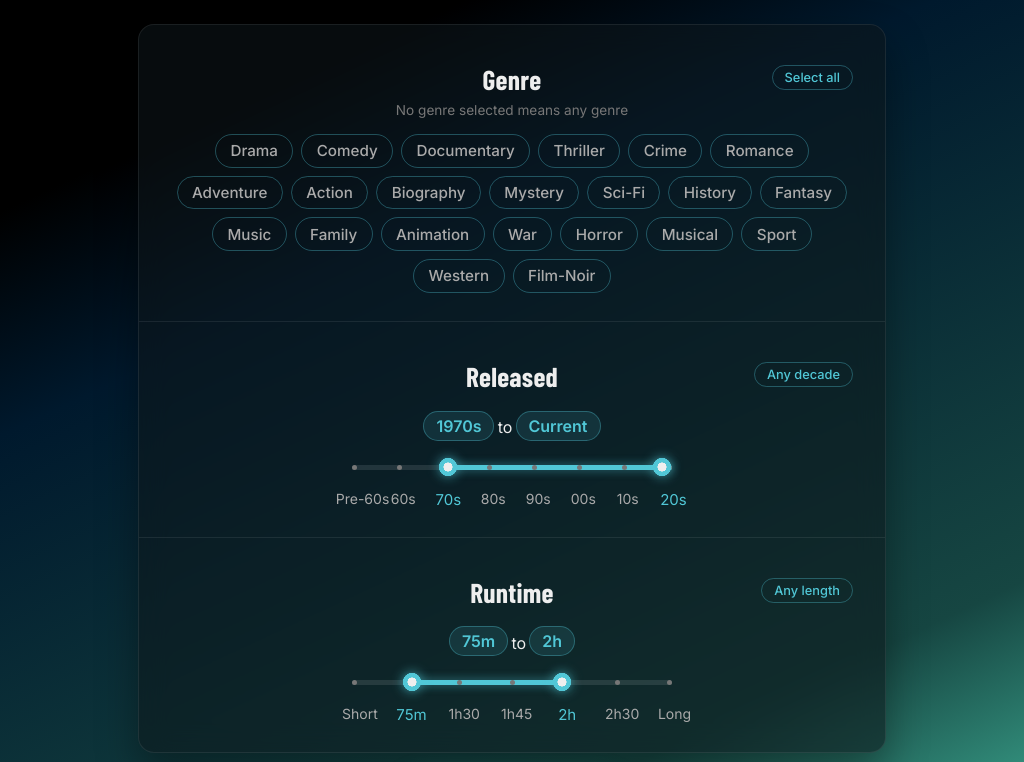
<ChoiceFormContainer/> › shows any-genre hint until a genre is chosen
Expected: the text "No genre selected means any genre" is shown, [396, 102, 628, 118]
Click the checkbox with test id "genre-checkbox" showing "Drama": (254, 151) [215, 134, 293, 168]
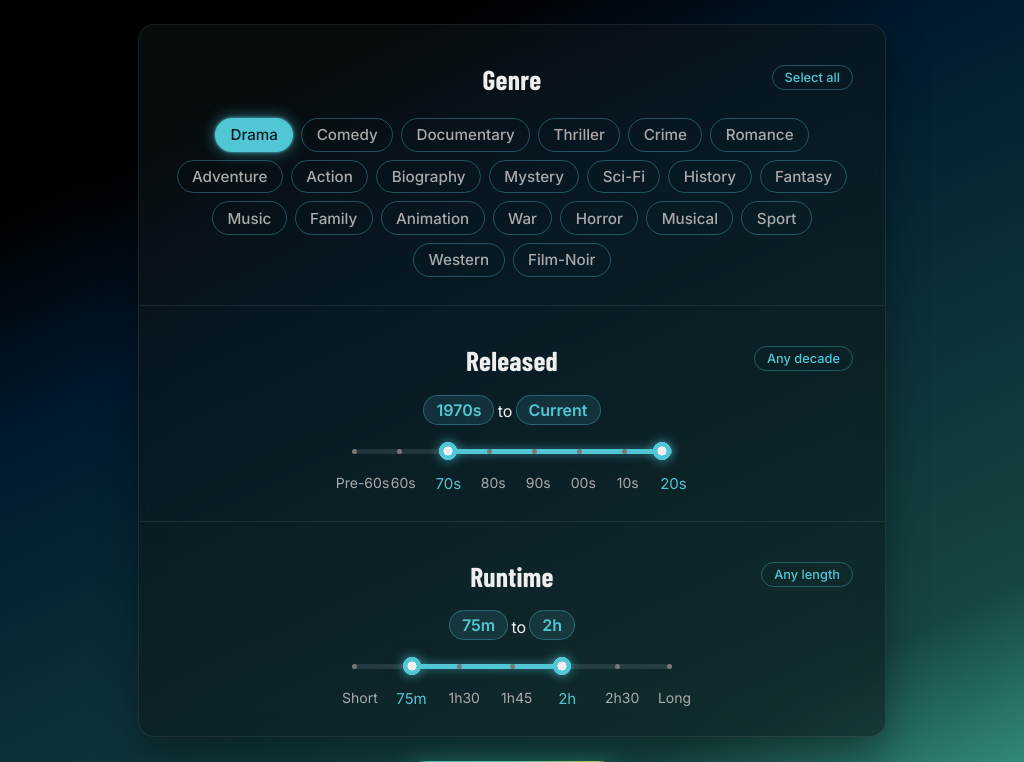
Now the text with test id "genre-hint" is gone
